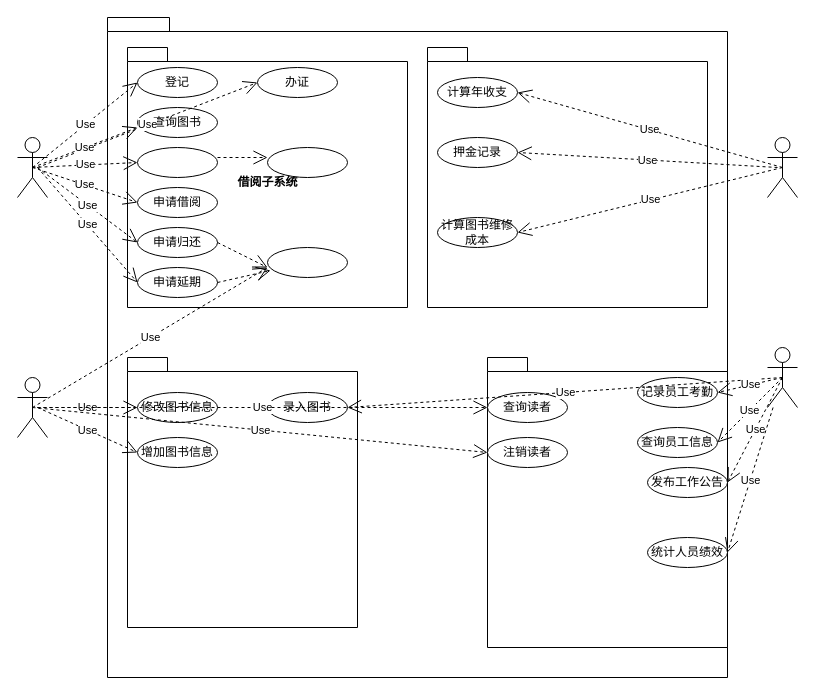
This 830x695 diagram has some shape labels left out. The shapes that lost their labels are listed below. From the top down, each one's box as (x1, y1, x2, y2) in pixels, then its label:
(16, 136, 48, 198): 读者
(136, 146, 218, 178): 预约借阅
(266, 146, 348, 178): 取消预约
(426, 46, 708, 308): 财务管理子系统
(766, 136, 798, 198): 馆长
(266, 246, 348, 278): 损耗登记
(766, 346, 798, 408): 系统管理员
(16, 376, 48, 438): 馆员
(126, 356, 358, 628): 图书管理子系统
(486, 356, 728, 648): 人员管理子系统
